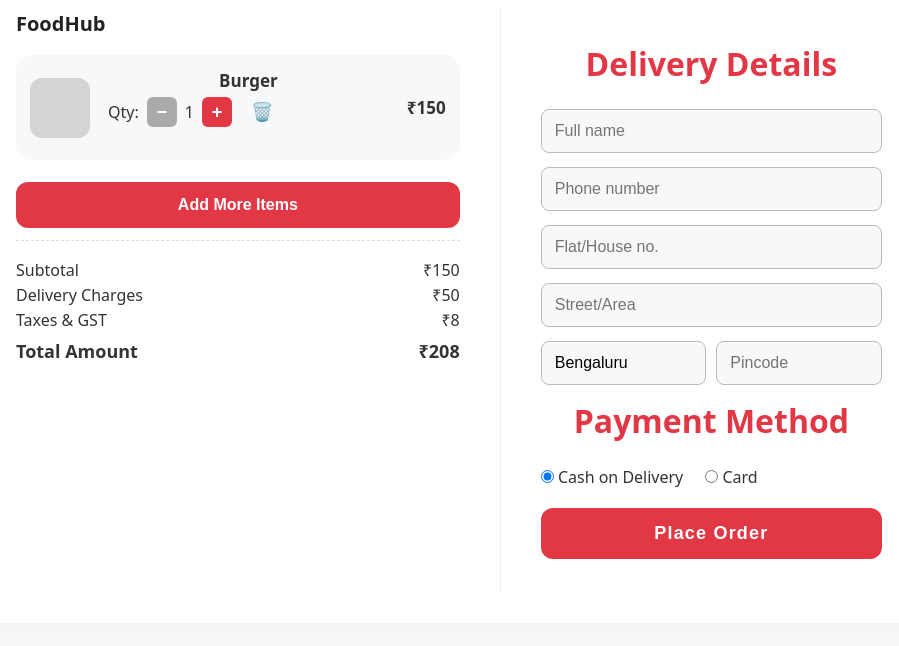
it: CheckoutPage UI › validates pincode format
Type "12345" into the field with placeholder "Pincode" at (799, 363), box [716, 341, 882, 385]
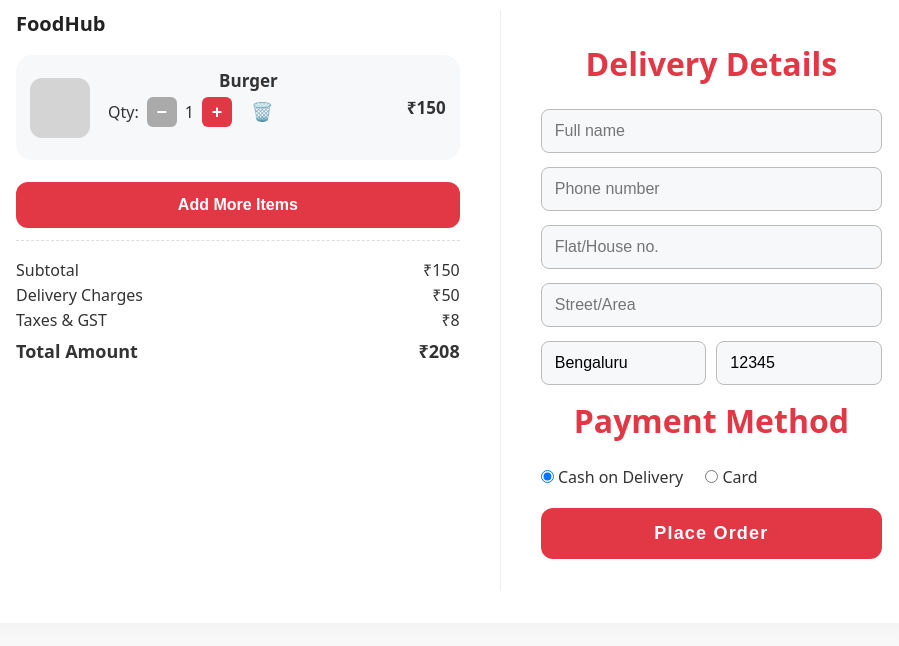
Click the button "Place Order" at (711, 534), box [541, 508, 882, 559]
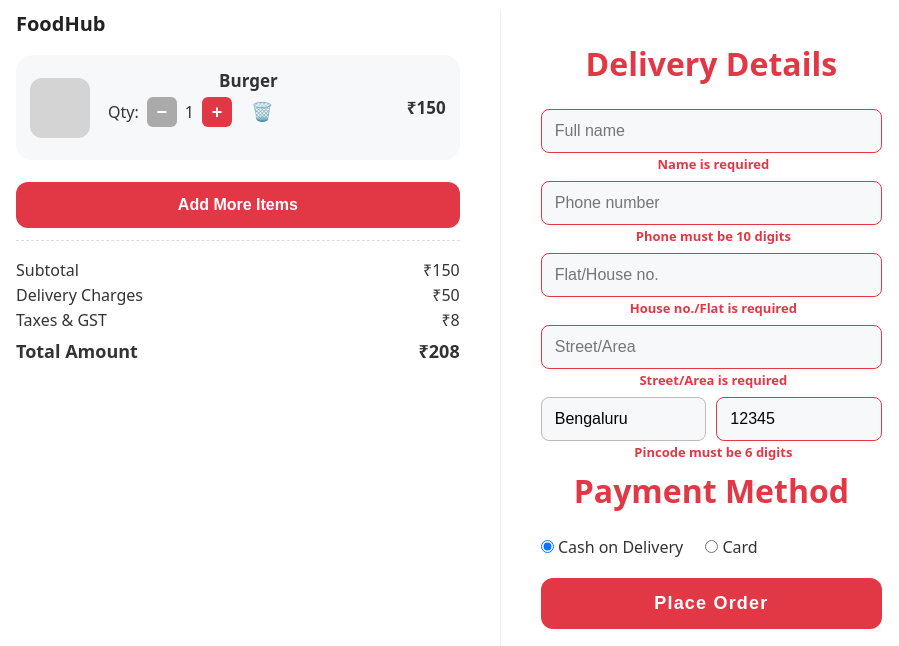
Expected: the text "Pincode must be 6 digits" is shown, [634, 443, 792, 461]
